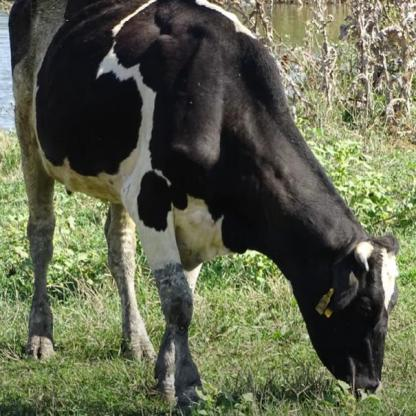cow: (13, 0, 398, 407)
